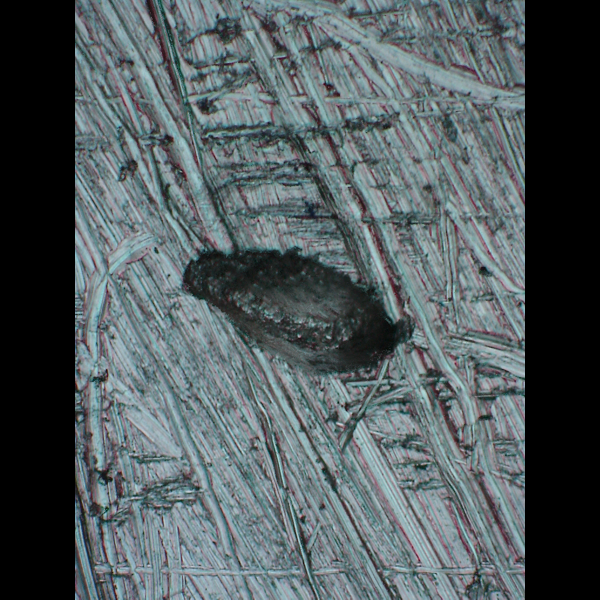d: (174, 237, 423, 377)
